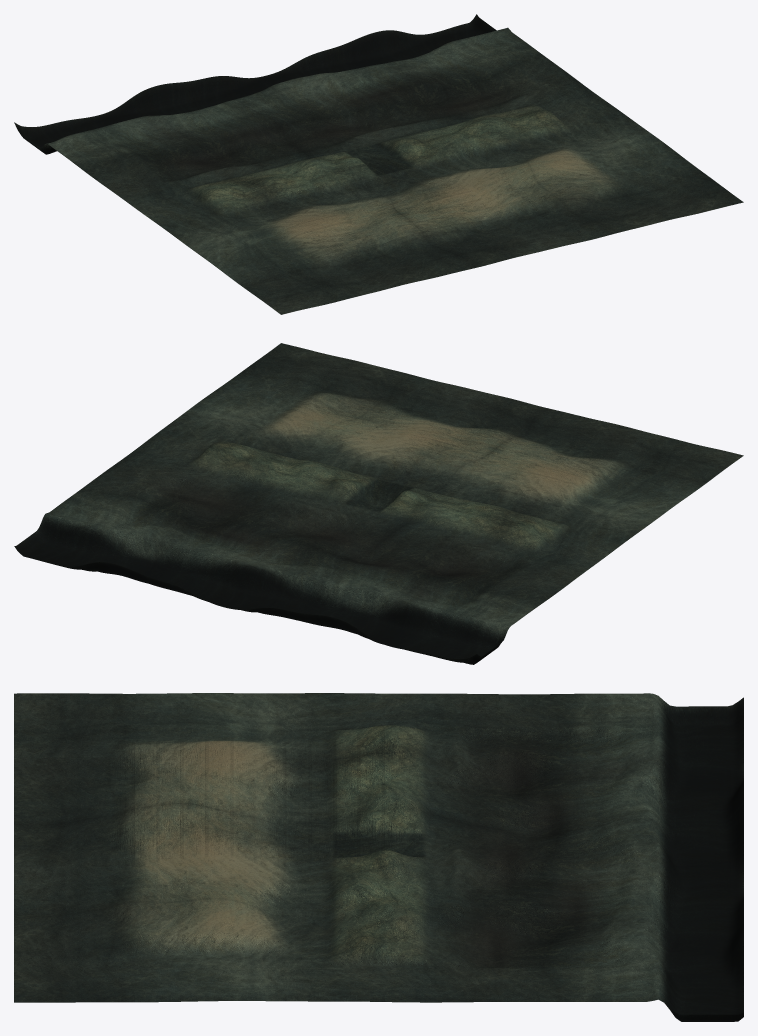
File: deepwater-claim-terrain.glb
3 renders of one model, top to bottom at view 1: azimuth 30°, elevation 25°; view 2: azimuth 150°, elevation 25°; view 3: azimuth 270°, elevation 25°, orthographic. The views are drawn at different scales.
Parts seen in each view (by area): view 1: DeepwaterClaimTerrain; view 2: DeepwaterClaimTerrain; view 3: DeepwaterClaimTerrain.
Part boxes in pixels (<box>): DeepwaterClaimTerrain: <box>14,14,743,314</box>; DeepwaterClaimTerrain: <box>14,343,743,664</box>; DeepwaterClaimTerrain: <box>14,693,743,1021</box>.
Size of the model in its own units: 128 by 7.7 by 128.
1 material, 1 textured.
